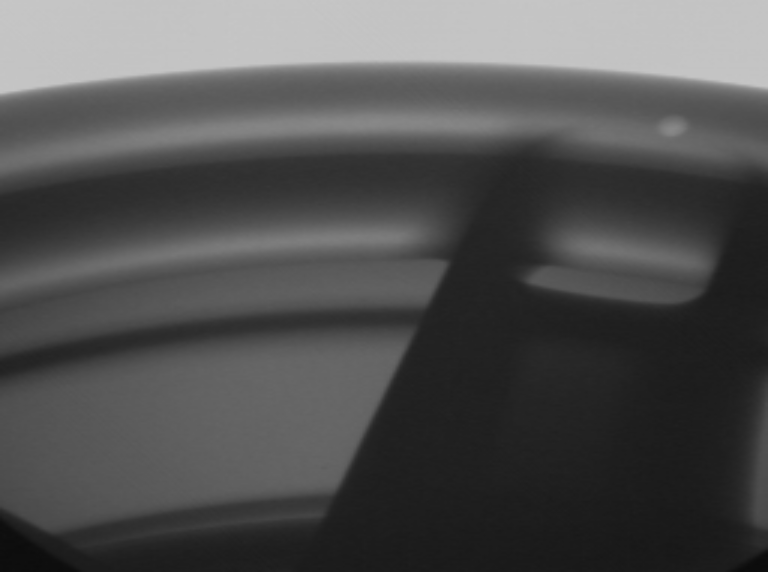defect: (648, 105, 711, 152)
